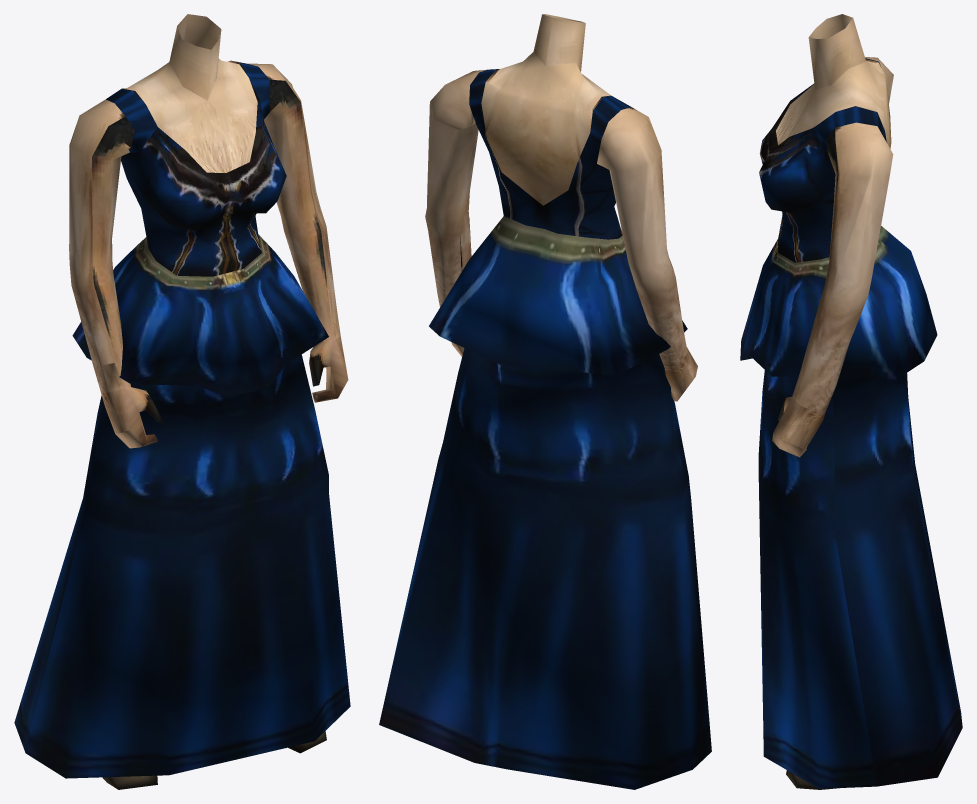
Rendered from WG_ARMOR_DRESS_BLUE_01.glb.
3 renders of one model, left to right at view 1: azimuth 30°, elevation 25°; view 2: azimuth 150°, elevation 25°; view 3: azimuth 270°, elevation 25°, orthographic. The views are drawn at different scales.
Visible parts, largest first — view 1: WG_ARMOR_DRESS_BLUE_01; view 2: WG_ARMOR_DRESS_BLUE_01; view 3: WG_ARMOR_DRESS_BLUE_01.
Boxes of the visible parts, box(x1,y1,x2,y2) form: WG_ARMOR_DRESS_BLUE_01: box(14, 14, 350, 789); WG_ARMOR_DRESS_BLUE_01: box(379, 14, 711, 789); WG_ARMOR_DRESS_BLUE_01: box(740, 14, 962, 789).
Bounding box in the file's own units: 0.7235 × 1.66 × 0.4655.
Materials: 2 (2 with a texture image).
